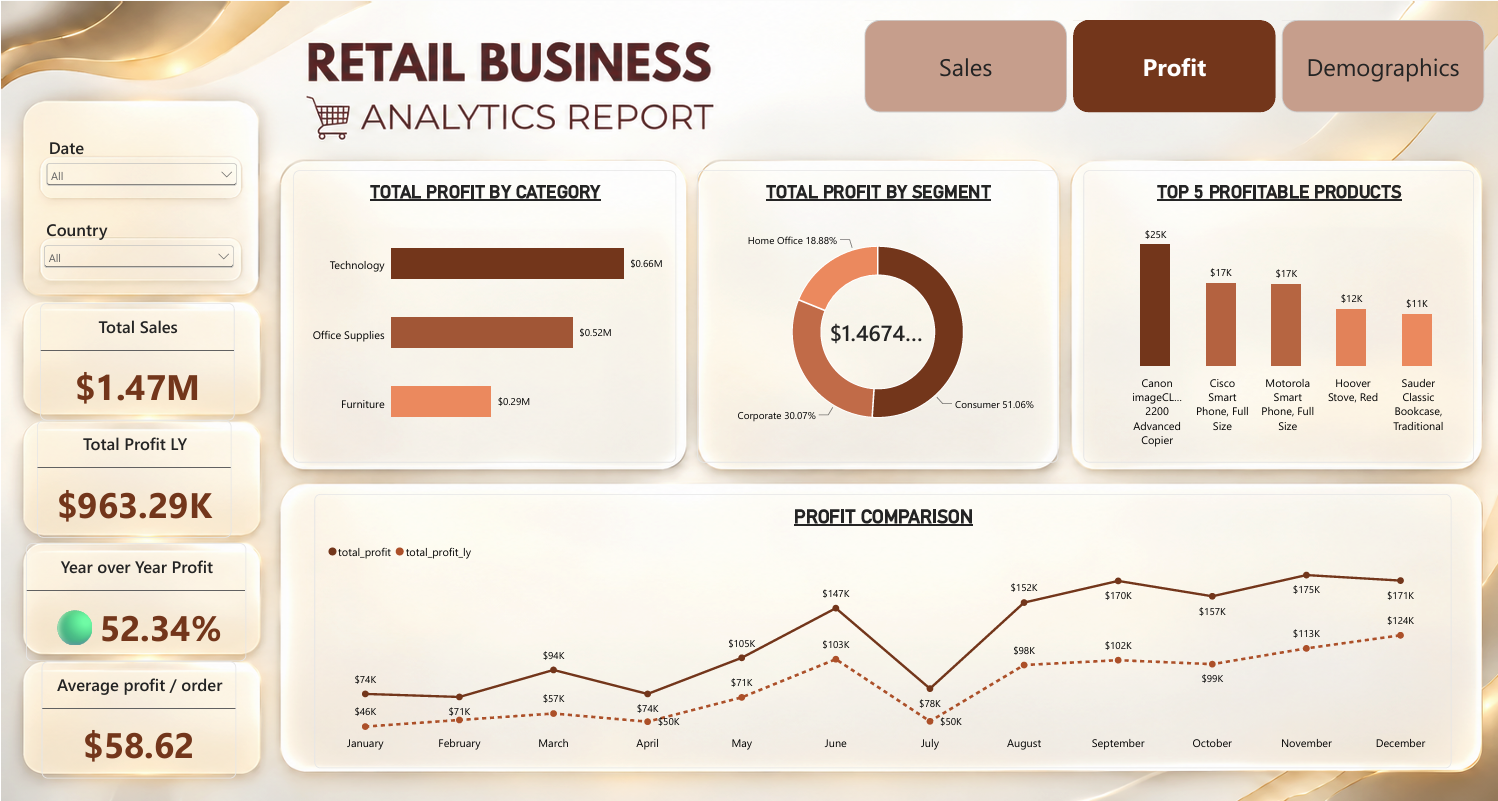

What the dashboard file says about the page in this screenshot:
{"tool":"powerbi","page":{"name":"Profit","canvas":[1920,1080],"ordinal":1},"visuals":[{"type":"pageNavigator","box":[1103.8,49.1,793.3,117.8],"z":0},{"type":"card","title":"Average profit / order","fields":{"Values":["Calculated_table.Average_profit_per_order"]},"box":[50.7,868.6,249.1,150.3],"z":2},{"type":"card","title":"Total Profit LY","fields":{"Values":["Calculated_table.total_profit_ly"]},"box":[45.2,561,249.1,150.3],"z":3},{"type":"card","title":"Year over Year Profit","fields":{"Values":["Calculated_table.yoy_growth_profit"]},"box":[30.8,718.4,282.3,150.2],"z":4},{"type":"card","title":"Total Sales","fields":{"Values":["Calculated_table.total_profit"]},"box":[48.9,410.8,249.1,150.3],"z":5},{"type":"barChart","title":"TOTAL PROFIT BY CATEGORY","fields":{"Category":["product_table.Category"],"Y":["Calculated_table.total_profit"]},"box":[372.8,240.7,490.4,374.6],"z":7},{"type":"donutChart","title":"TOTAL PROFIT BY SEGMENT","fields":{"Category":["customer_table.Segment"],"Y":["Calculated_table.total_profit"]},"box":[890.4,240.7,461.5,374.6],"z":8},{"type":"clusteredColumnChart","title":"TOP 5 PROFITABLE PRODUCTS","fields":{"Category":["product_table.Product Name"],"Y":["Calculated_table.total_profit"]},"box":[1384.4,240.7,499.5,374.6],"z":9},{"type":"lineChart","title":"PROFIT COMPARISON","fields":{"Category":["date_table.Date.Variation.Date Hierarchy.Month"],"Y":["Calculated_table.total_profit","Calculated_table.total_profit_ly"]},"box":[399.9,655.1,1455,351.1],"z":10},{"type":"slicer","fields":{"Values":["location_table.Country"]},"box":[49.1,301.9,252.8,90.6],"z":12},{"type":"slicer","fields":{"Values":["date_table.Date.Variation.Date Hierarchy.Year","date_table.Date.Variation.Date Hierarchy.Month"]},"box":[52.5,197.3,253.4,86.9],"z":13}]}

Visuals, with their boxes on the page's 1920x1080 design canvas (x1, y1, x2, y2). These are canvas units, not pixel positions in the 1498x801 screenshot, which may show the page scaled, cropped or inside an application window:
pageNavigator: x1=1104 y1=49 x2=1897 y2=167
"Average profit / order" card: x1=51 y1=869 x2=300 y2=1019
"Total Profit LY" card: x1=45 y1=561 x2=294 y2=711
"Year over Year Profit" card: x1=31 y1=718 x2=313 y2=869
"Total Sales" card: x1=49 y1=411 x2=298 y2=561
"TOTAL PROFIT BY CATEGORY" barChart: x1=373 y1=241 x2=863 y2=615
"TOTAL PROFIT BY SEGMENT" donutChart: x1=890 y1=241 x2=1352 y2=615
"TOP 5 PROFITABLE PRODUCTS" clusteredColumnChart: x1=1384 y1=241 x2=1884 y2=615
"PROFIT COMPARISON" lineChart: x1=400 y1=655 x2=1855 y2=1006
slicer - location_table.Country: x1=49 y1=302 x2=302 y2=392
slicer - date_table.Date.Variation.Date Hierarchy.Year x date_table.Date.Variation.Date Hierarchy.Month: x1=52 y1=197 x2=306 y2=284
